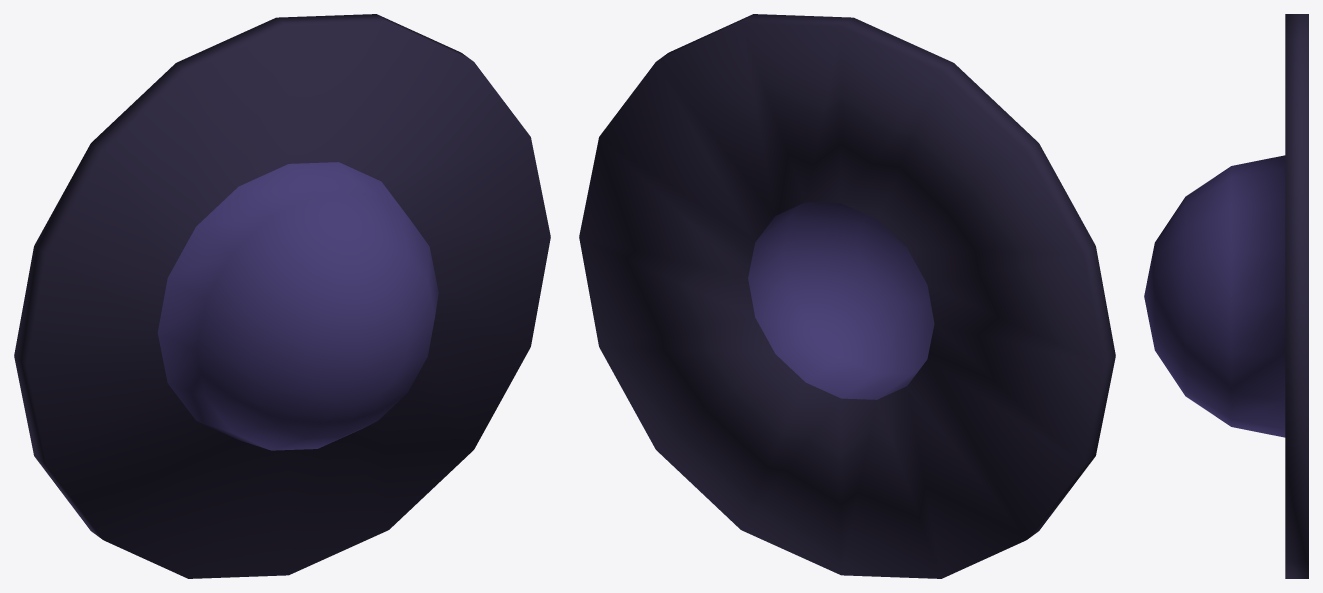
Rendered from buckler.glb.
The picture shows the model from 3 angles, left to right: view 1: azimuth 30°, elevation 25°; view 2: azimuth 150°, elevation 25°; view 3: azimuth 270°, elevation 25°; orthographic projection. The views are drawn at different scales.
Visible parts, largest first — view 1: Shield - Buckler - Ralchire (Ryan Hetchler); view 2: Shield - Buckler - Ralchire (Ryan Hetchler); view 3: Shield - Buckler - Ralchire (Ryan Hetchler).
Part boxes in pixels (x1,y1,x2,y2): Shield - Buckler - Ralchire (Ryan Hetchler): (14, 14, 550, 578); Shield - Buckler - Ralchire (Ryan Hetchler): (579, 14, 1115, 578); Shield - Buckler - Ralchire (Ryan Hetchler): (1144, 14, 1308, 578).
Bounding box in the file's own units: 0.3701 × 0.3701 × 0.1078.
